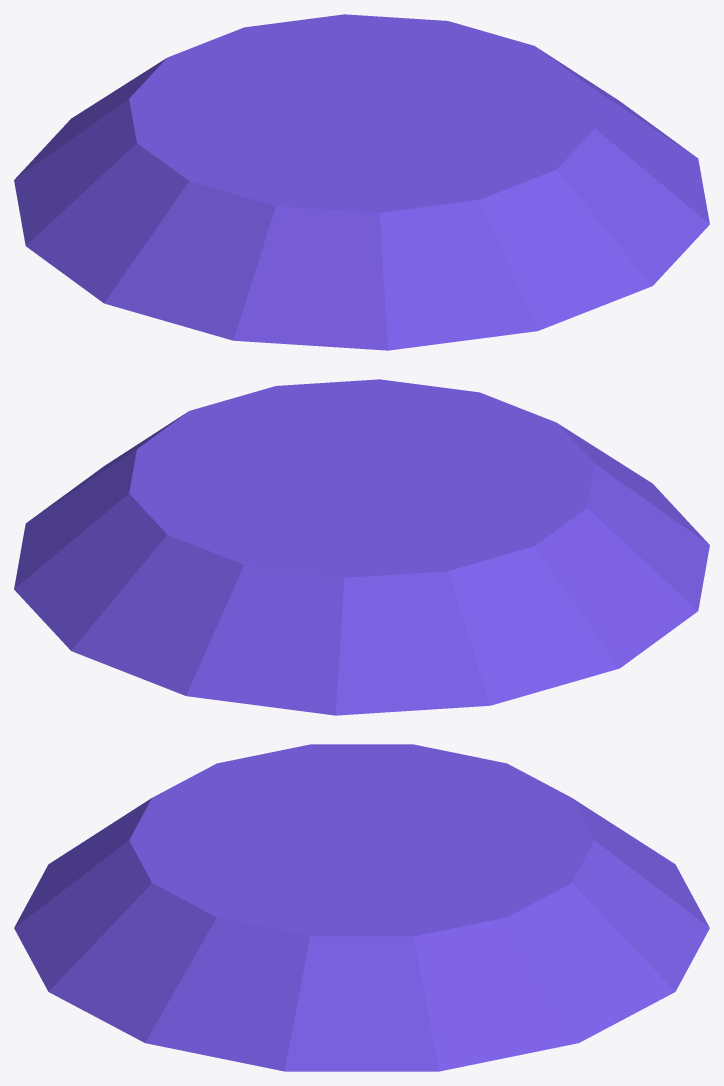
File: weapon_pedestal.glb
3 renders of one model, top to bottom at view 1: azimuth 30°, elevation 25°; view 2: azimuth 150°, elevation 25°; view 3: azimuth 270°, elevation 25°, orthographic.
Visible parts, largest first — view 1: Cylinder; view 2: Cylinder; view 3: Cylinder.
Part boxes in pixels (box(x1,y1,x2,y2)): Cylinder: box(14, 14, 709, 350); Cylinder: box(14, 379, 709, 715); Cylinder: box(14, 744, 709, 1071).
Size of the model in its own units: 13.65 by 1.95 by 14.
